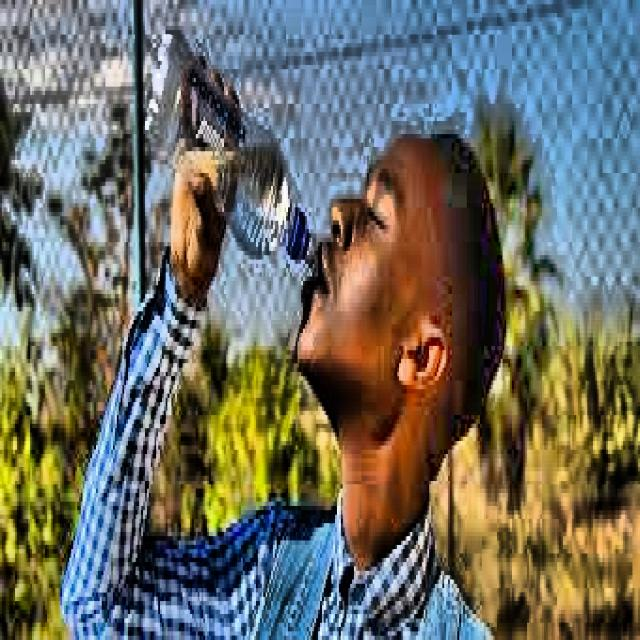Bottle: (142, 26, 314, 268)
